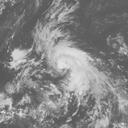cyclone: (45, 37, 99, 95)
